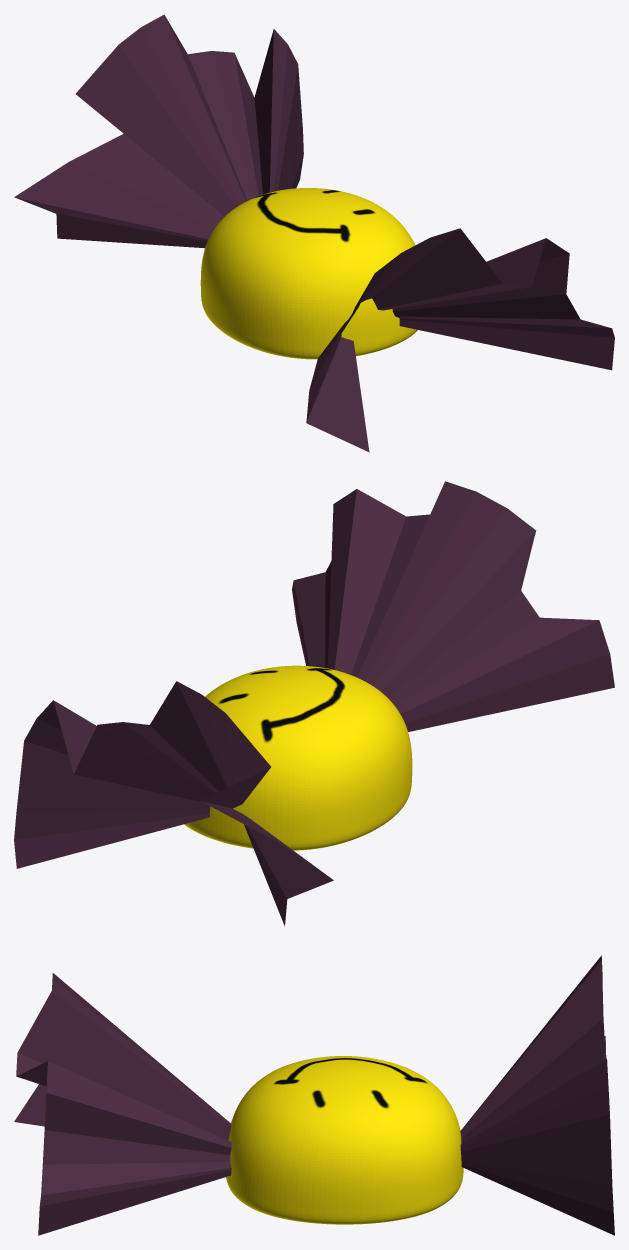
Rendered from CandySmile.fbx.
3 views of the same model, one above another, from view 1: azimuth 30°, elevation 25°; view 2: azimuth 150°, elevation 25°; view 3: azimuth 270°, elevation 25° (orthographic). The views are drawn at different scales.
Visible parts, largest first — view 1: Cone.002, Cube, Cone.001; view 2: Cone.001, Cone.002, Cube; view 3: Cube, Cone.001, Cone.002.
Boxes of the visible parts, x1=… form: Cone.002: x1=14, y1=14, x2=303, y2=248; Cube: x1=200, y1=188, x2=417, y2=359; Cone.001: x1=306, y1=228, x2=614, y2=452; Cone.001: x1=292, y1=481, x2=614, y2=731; Cone.002: x1=14, y1=681, x2=333, y2=926; Cube: x1=184, y1=665, x2=412, y2=850; Cube: x1=226, y1=1056, x2=463, y2=1224; Cone.001: x1=14, y1=973, x2=231, y2=1235; Cone.002: x1=460, y1=955, x2=614, y2=1235.
Bounding box in the file's own units: 111 × 70.1 × 179.
2 materials, 1 textured.
